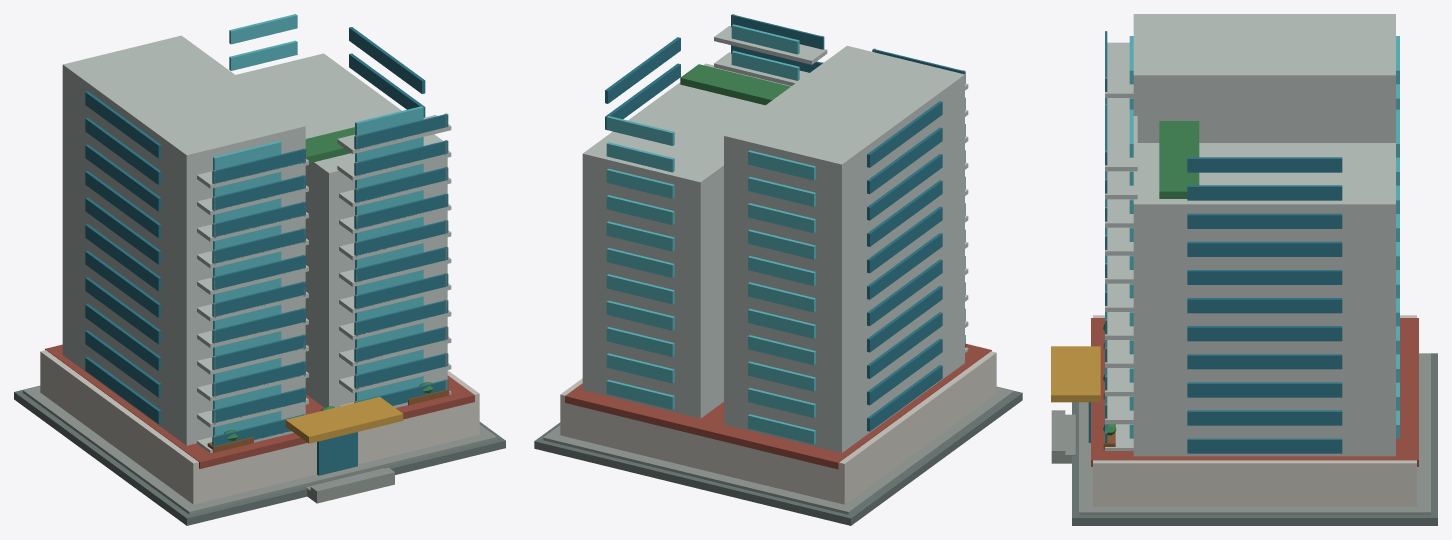
File: apartment_lv3.glb
3 views of the same model, side by side, from view 1: azimuth 30°, elevation 25°; view 2: azimuth 150°, elevation 25°; view 3: azimuth 270°, elevation 25° (orthographic). The views are drawn at different scales.
Parts seen in each view (by area): view 1: rough, glossy, metallic; view 2: rough, glossy; view 3: rough, glossy.
Boxes of the visible parts, <box> form: rough: <box>14,35,505,525</box>; glossy: <box>85,14,448,475</box>; metallic: <box>213,113,447,446</box>; rough: <box>534,26,1022,525</box>; glossy: <box>605,15,965,444</box>; rough: <box>1051,14,1437,525</box>; glossy: <box>1088,32,1399,453</box>.
Size of the model in its own units: 9.8 by 10.05 by 9.73.
